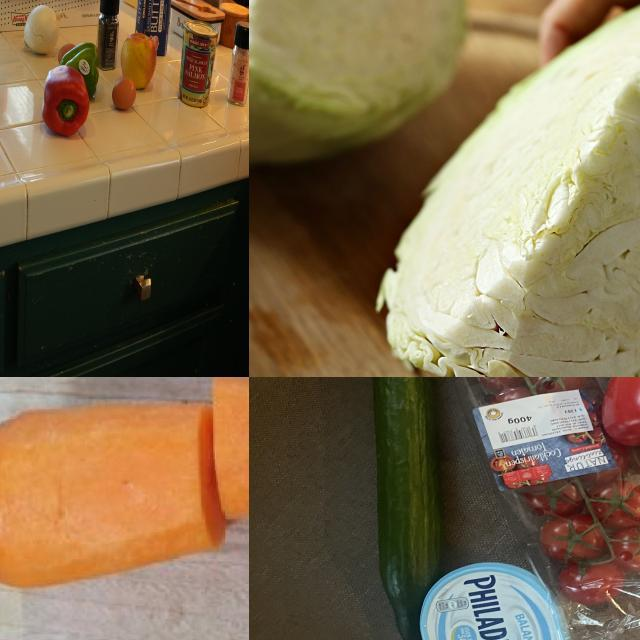bell_pepper: (41, 70, 93, 142), (63, 46, 104, 102), (97, 1, 121, 72)
cabbage: (380, 1, 640, 378), (250, 1, 471, 171)
carrot: (1, 399, 228, 598)
cucumber: (360, 378, 448, 640)
egg: (109, 83, 145, 111), (57, 39, 79, 65)
onion: (22, 5, 64, 55)
tomato: (470, 378, 640, 635)
